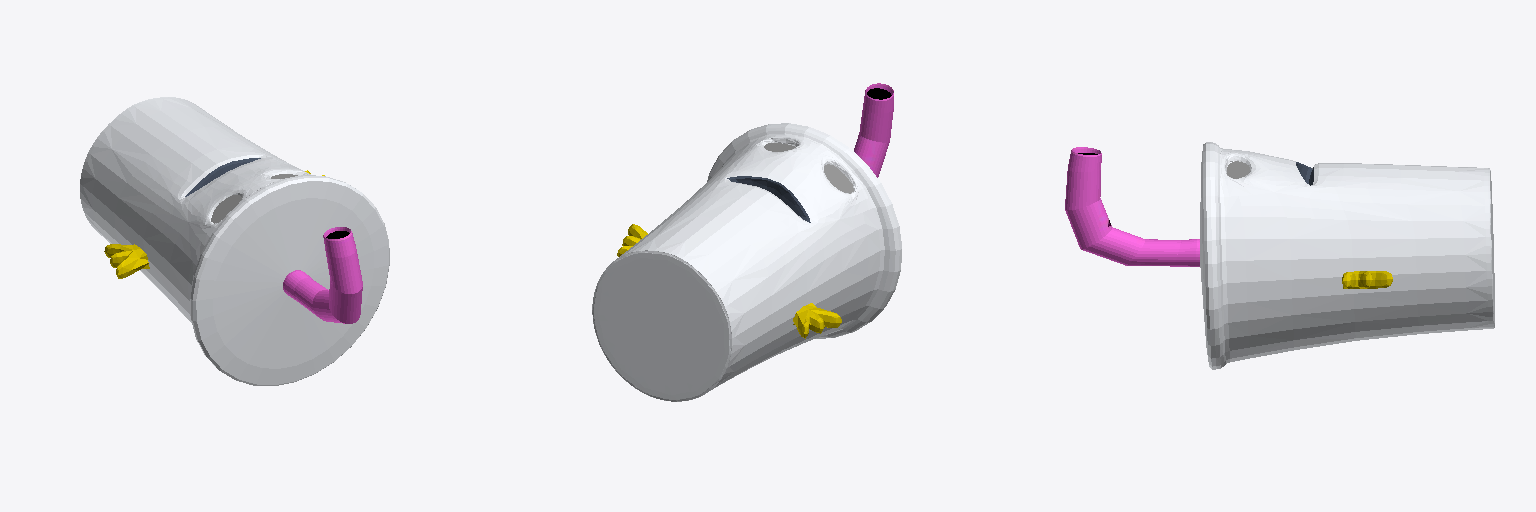
The picture shows the model from 3 angles: view 1: azimuth 30°, elevation 25°; view 2: azimuth 150°, elevation 25°; view 3: azimuth 270°, elevation 25°; orthographic projection.
Visible parts, largest first — view 1: objMasterShake; view 2: objMasterShake; view 3: objMasterShake.
Boxes of the visible parts, box(x1,y1,x2,y2) form: objMasterShake: box(80, 97, 389, 385); objMasterShake: box(592, 83, 901, 401); objMasterShake: box(1065, 142, 1494, 369).
Bounding box in the file's own units: 6.11 × 5.64 × 10.68.
Materials: 4 (1 with a texture image).